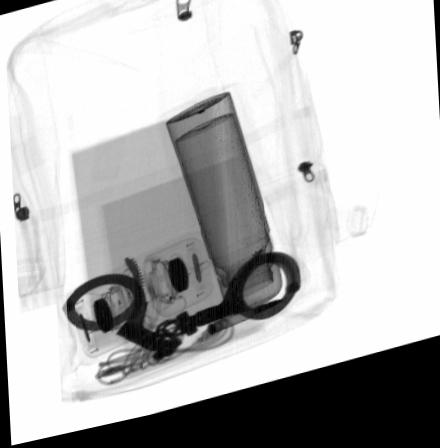Bullet: (206, 310, 287, 346)
HandCuffs: (65, 258, 303, 369)
